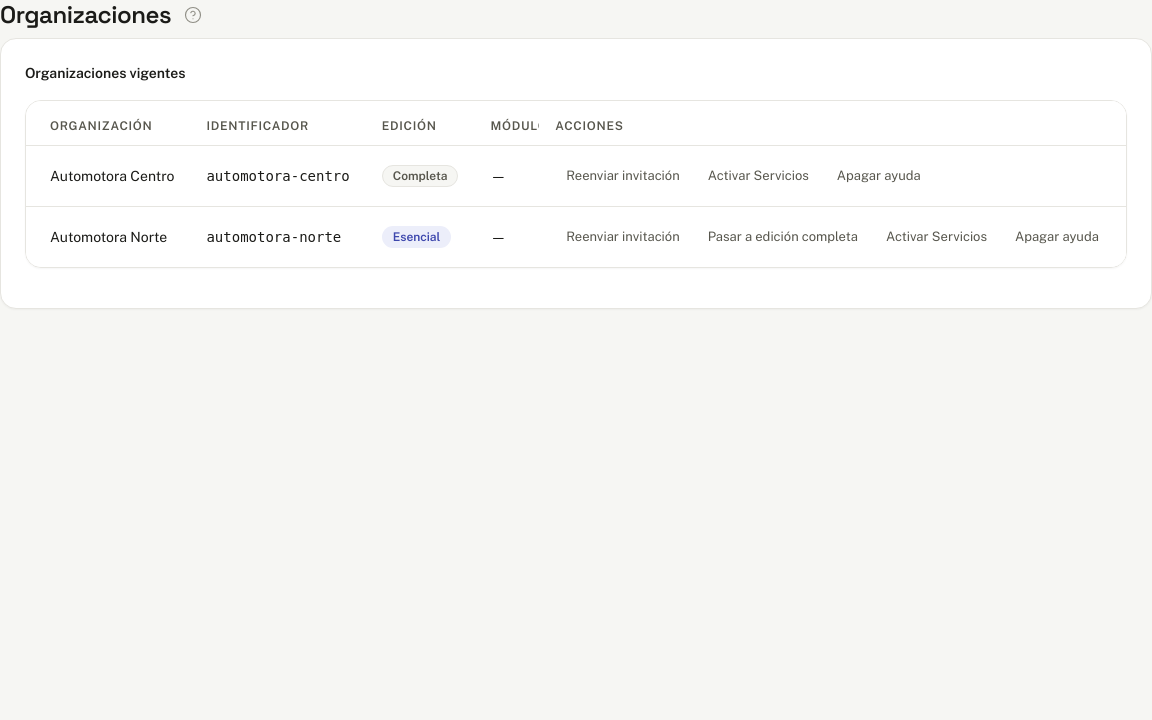
Scenario: OrganizationsPage › reenviar la invitación en una demo: dice a quiénes salió y a quiénes no
Click the button "Reenviar invitación" in the row of "Automotora Centro": (623, 176) [555, 160, 691, 192]
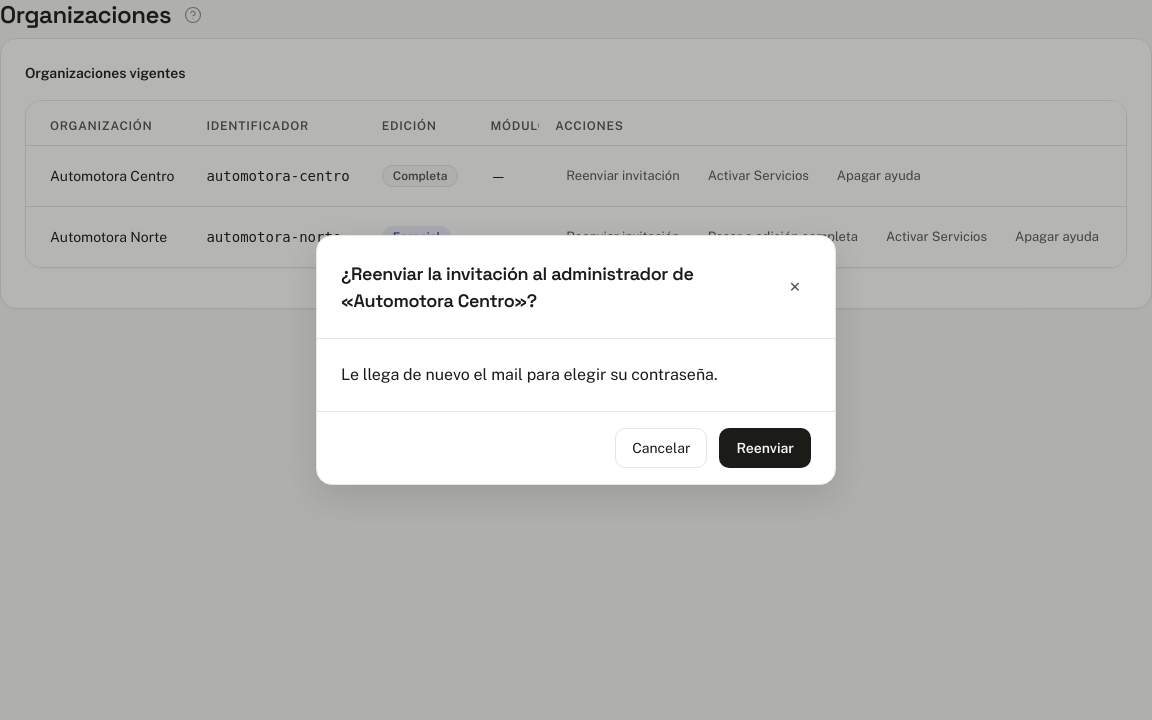
Click the button "Reenviar": (765, 448) [719, 428, 811, 468]
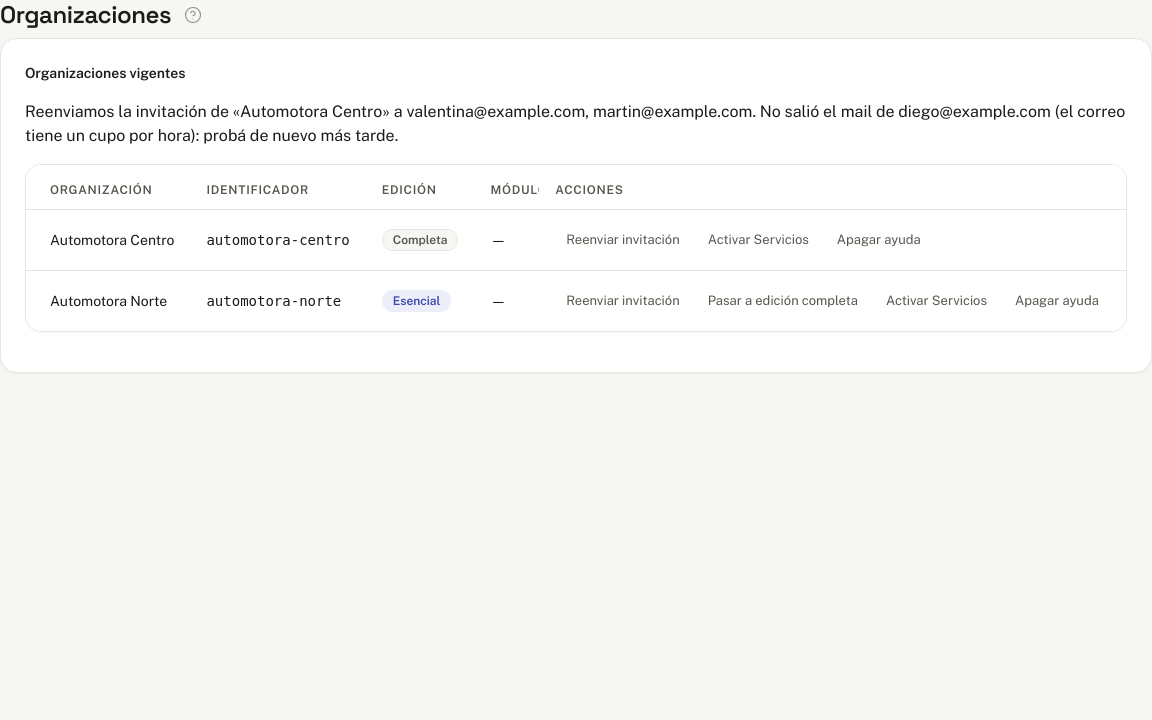
Check: the message shows "Reenviamos la invitación de «Automotora Centro» a valentina@example.com, martin@example.com. No salió el mail de diego@example.com (el correo tiene un cupo por", box [25, 102, 1125, 145]
